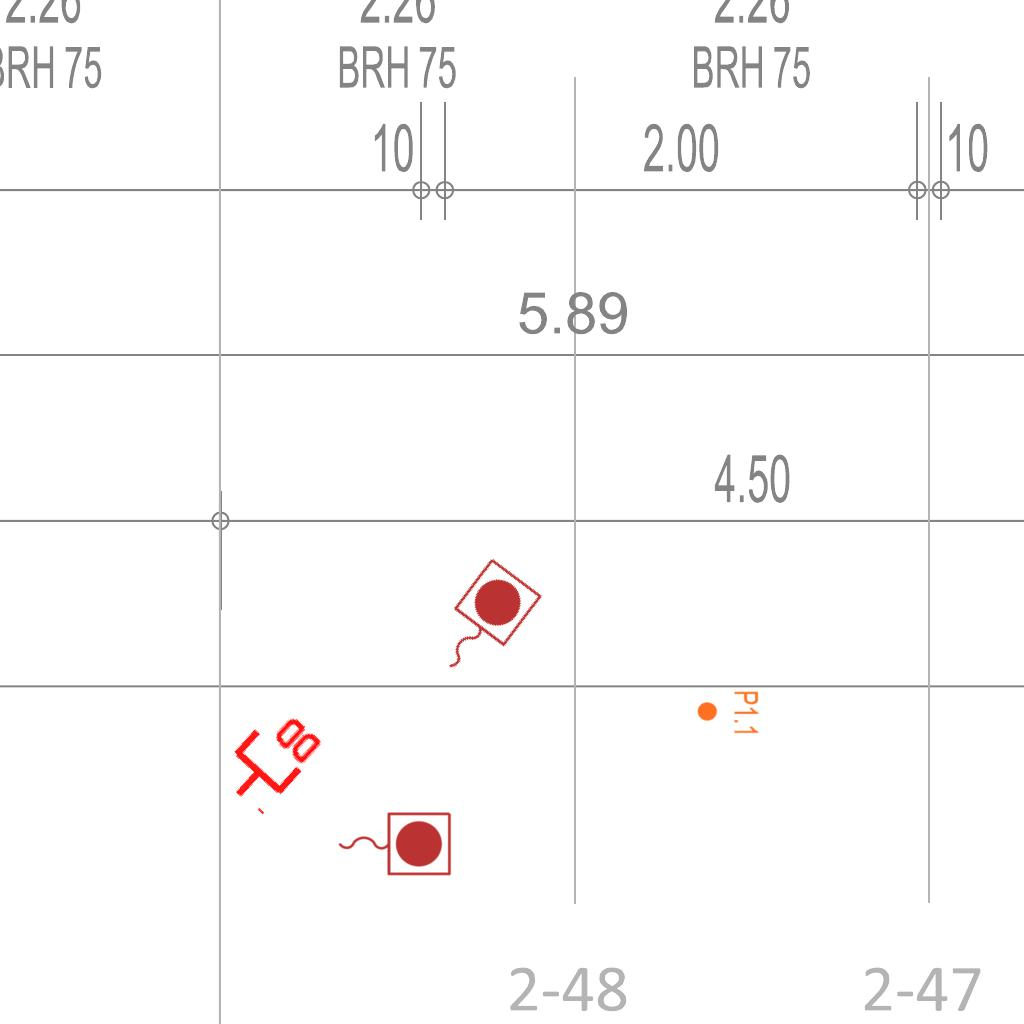Datenanschluss_zweifach: (209, 696, 330, 819)
Downlight_LED_Einbauleuchten_Flur: (696, 690, 760, 736)
Zugtaster: (416, 551, 548, 693), (333, 807, 455, 879)
